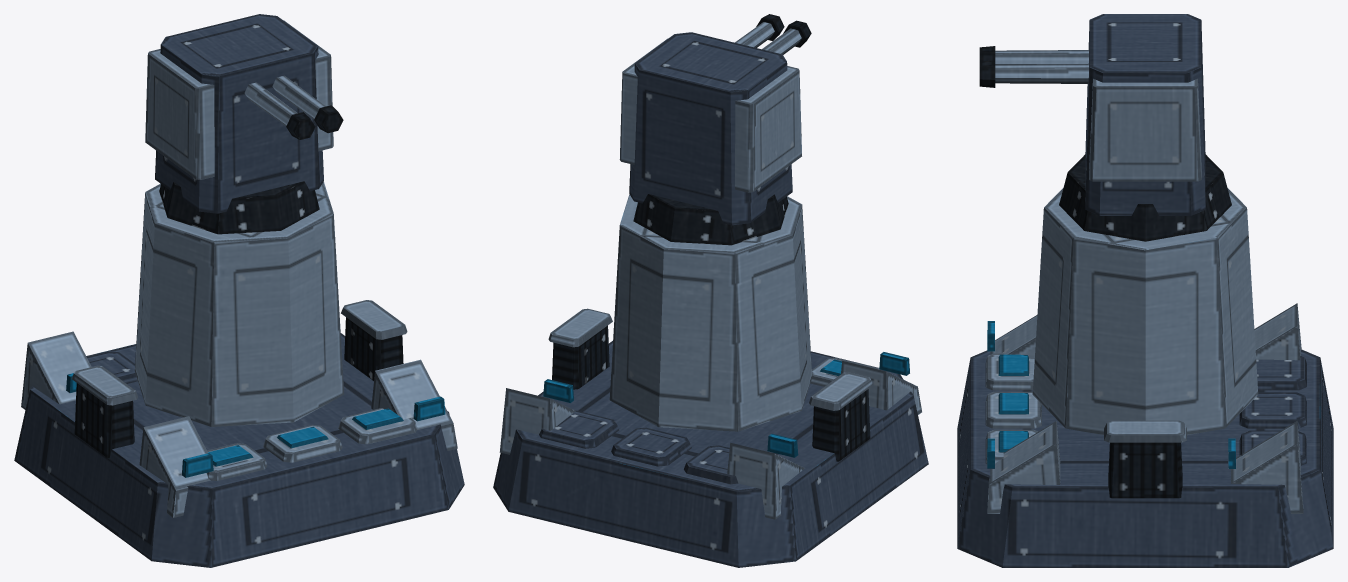
File: building-point_defence.fbx
3 renders of one model, left to right at view 1: azimuth 30°, elevation 25°; view 2: azimuth 150°, elevation 25°; view 3: azimuth 270°, elevation 25°, orthographic. The views are drawn at different scales.
Visible parts, largest first — view 1: building-point_defence; view 2: building-point_defence; view 3: building-point_defence.
Part boxes in pixels (left/top/right/bottom): building-point_defence: left=14, top=14, right=464, bottom=567; building-point_defence: left=493, top=14, right=928, bottom=567; building-point_defence: left=957, top=14, right=1333, bottom=567.
Size of the model in its own units: 728 by 950 by 728.
Materials: 1 (1 with a texture image).
